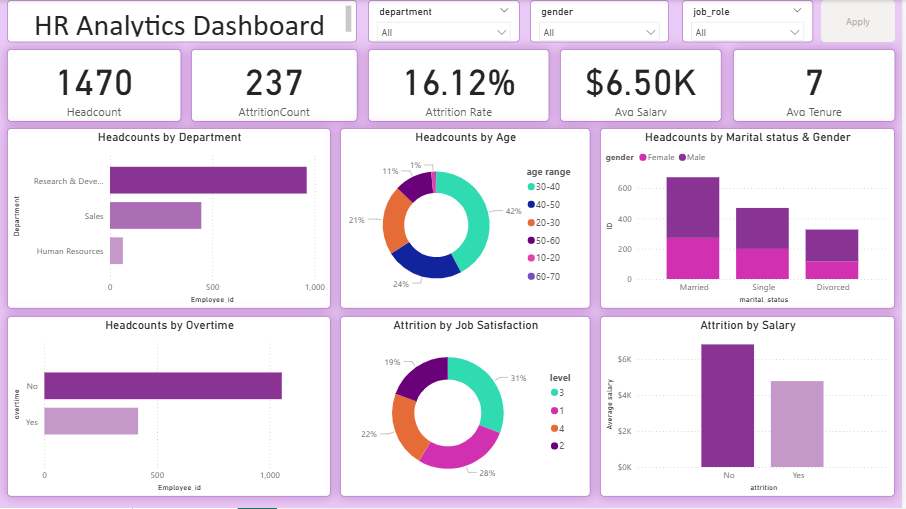

This screenshot's page, from the dashboard's own definition file:
{"tool":"powerbi","page":{"name":"HR_Analytics_Page1","canvas":[1280,720],"ordinal":0},"visuals":[{"type":"card","fields":{"Values":["Measure.Headcount"]},"box":[11.3,69.4,246.6,103.5],"z":0},{"type":"card","fields":{"Values":["Measure.AttritionCount"]},"box":[271.7,70.1,236,103],"z":1000},{"type":"card","fields":{"Values":["Measure.Attrition Rate"]},"box":[523.4,70.1,257.4,103],"z":2000},{"type":"card","fields":{"Values":["Measure.Avg Salary"]},"box":[795.2,70.1,228.8,103],"z":3000},{"type":"card","fields":{"Values":["Measure.Avg Tenure"]},"box":[1039.7,70.1,230.3,103],"z":4000},{"type":"barChart","title":"Headcounts by Department","fields":{"Category":["hr_analytics hr_data.department"],"Y":["CountNonNull(hr_analytics hr_data.employee_id)"]},"box":[11.4,181.6,459.1,256],"z":5000},{"type":"donutChart","title":"Headcounts by Age","fields":{"Y":["CountNonNull(hr_analytics hr_data.employee_id)"],"Category":["hr_analytics hr_data.age range"]},"box":[483.4,181.6,354.7,256],"z":6000},{"type":"columnChart","title":"Headcounts by Marital status & Gender","fields":{"Category":["hr_analytics hr_data.marital_status"],"Y":["CountNonNull(hr_analytics hr_data.employee_id)"],"Series":["hr_analytics hr_data.gender"]},"box":[852.4,181.6,417.6,256],"z":7000},{"type":"barChart","title":"Headcounts by Overtime","fields":{"Category":["hr_analytics hr_data.overtime"],"Y":["CountNonNull(hr_analytics hr_data.employee_id)"]},"box":[11.4,447.6,459.1,256],"z":8000},{"type":"donutChart","title":"Attrition by Job Satisfaction","fields":{"Y":["Measure.AttritionCount"],"Category":["hr_analytics hr_data.job_satisfaction"]},"box":[483.4,447.6,354.7,256],"z":9000},{"type":"columnChart","title":"Attrition by Salary","fields":{"Y":["Avg(hr_analytics hr_data.monthly_income)"],"Category":["hr_analytics hr_data.attrition"]},"box":[852.4,447.6,417.6,256],"z":10000},{"type":"slicer","fields":{"Values":["hr_analytics hr_data.department"]},"box":[523,0,215.4,59.5],"z":11000},{"type":"slicer","fields":{"Values":["hr_analytics hr_data.gender"]},"box":[752.6,0,197,59.5],"z":12000},{"type":"slicer","fields":{"Values":["hr_analytics hr_data.job_role"]},"box":[968,0,185.7,59.5],"z":13000},{"type":"textbox","box":[11.3,0,496.1,59.5],"z":14000},{"type":"actionButton","box":[1165,0,104.9,59.5],"z":14001}]}

Visuals, with their boxes in screenshot pixels (x1, y1, x2, y2), scaled from the page's 1280x720 canvas onto the 906x509 screenshot:
card - Measure.Headcount: bbox=[8, 49, 183, 122]
card - Measure.AttritionCount: bbox=[192, 50, 359, 122]
card - Measure.Attrition Rate: bbox=[370, 50, 553, 122]
card - Measure.Avg Salary: bbox=[563, 50, 725, 122]
card - Measure.Avg Tenure: bbox=[736, 50, 899, 122]
"Headcounts by Department" barChart: bbox=[8, 128, 333, 309]
"Headcounts by Age" donutChart: bbox=[342, 128, 593, 309]
"Headcounts by Marital status & Gender" columnChart: bbox=[603, 128, 899, 309]
"Headcounts by Overtime" barChart: bbox=[8, 316, 333, 497]
"Attrition by Job Satisfaction" donutChart: bbox=[342, 316, 593, 497]
"Attrition by Salary" columnChart: bbox=[603, 316, 899, 497]
slicer - hr_analytics hr_data.department: bbox=[370, 0, 523, 42]
slicer - hr_analytics hr_data.gender: bbox=[533, 0, 672, 42]
slicer - hr_analytics hr_data.job_role: bbox=[685, 0, 817, 42]
textbox: bbox=[8, 0, 359, 42]
actionButton: bbox=[825, 0, 899, 42]
